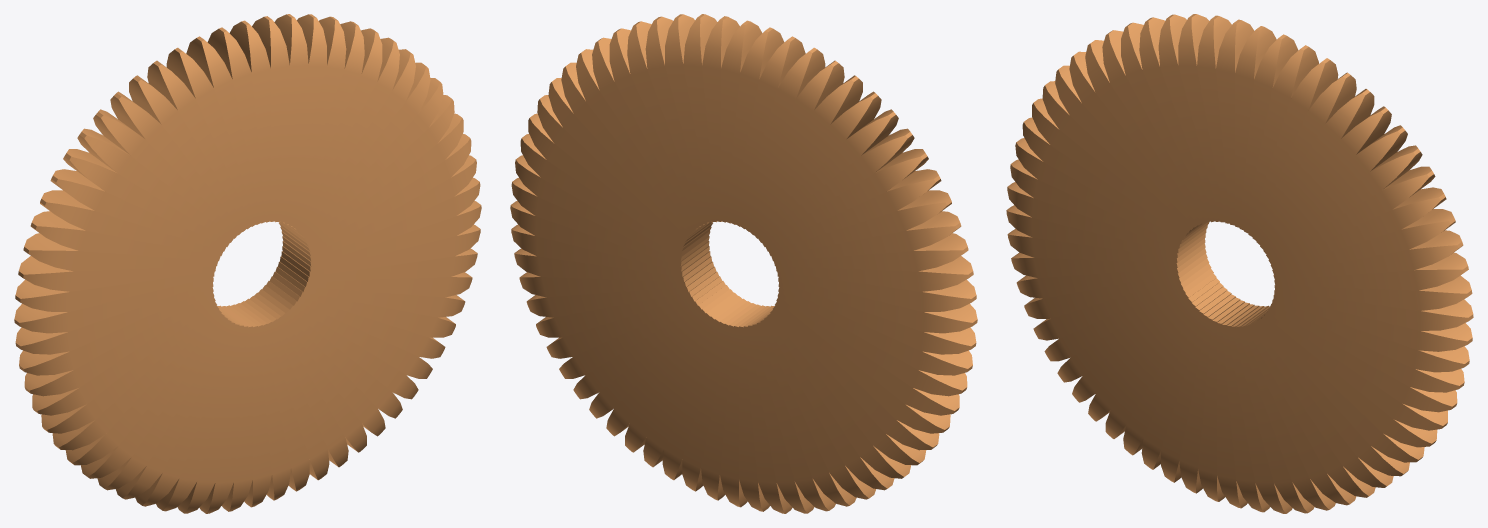
Rendered from gear.glb.
3 views of the same model, side by side, from view 1: azimuth 30°, elevation 25°; view 2: azimuth 150°, elevation 25°; view 3: azimuth 330°, elevation 25° (orthographic).
Parts seen in each view (by area): view 1: Circle.003; view 2: Circle.003; view 3: Circle.003.
Boxes of the visible parts, <box> form: Circle.003: <box>14,14,481,513</box>; Circle.003: <box>510,14,977,513</box>; Circle.003: <box>1006,14,1473,513</box>.
Size of the model in its own units: 4.44 by 4.44 by 0.4668.
